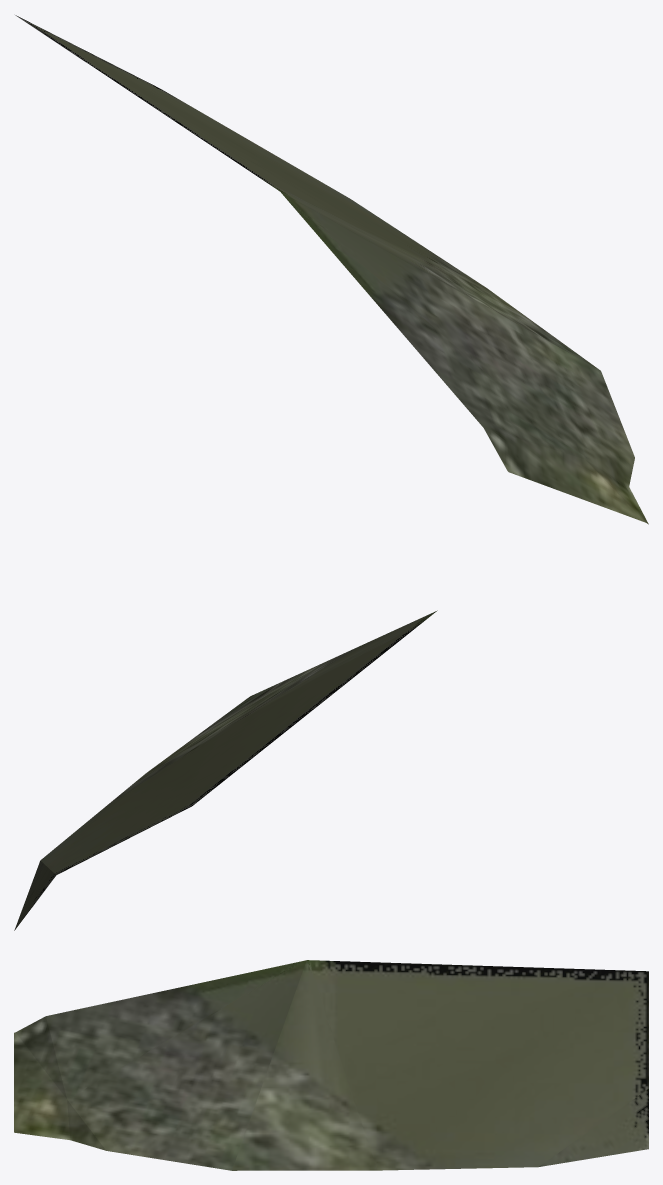
3 renders of one model, top to bottom at view 1: azimuth 30°, elevation 25°; view 2: azimuth 150°, elevation 25°; view 3: azimuth 270°, elevation 25°, orthographic. The views are drawn at different scales.
Size of the model in its own units: 1.81 by 1.32 by 5.9.
Materials: 1 (1 with a texture image).
